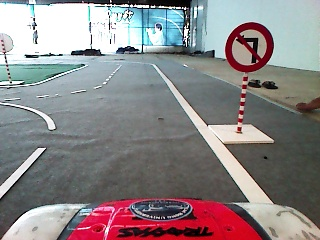ban_left: (224, 22, 275, 73)
